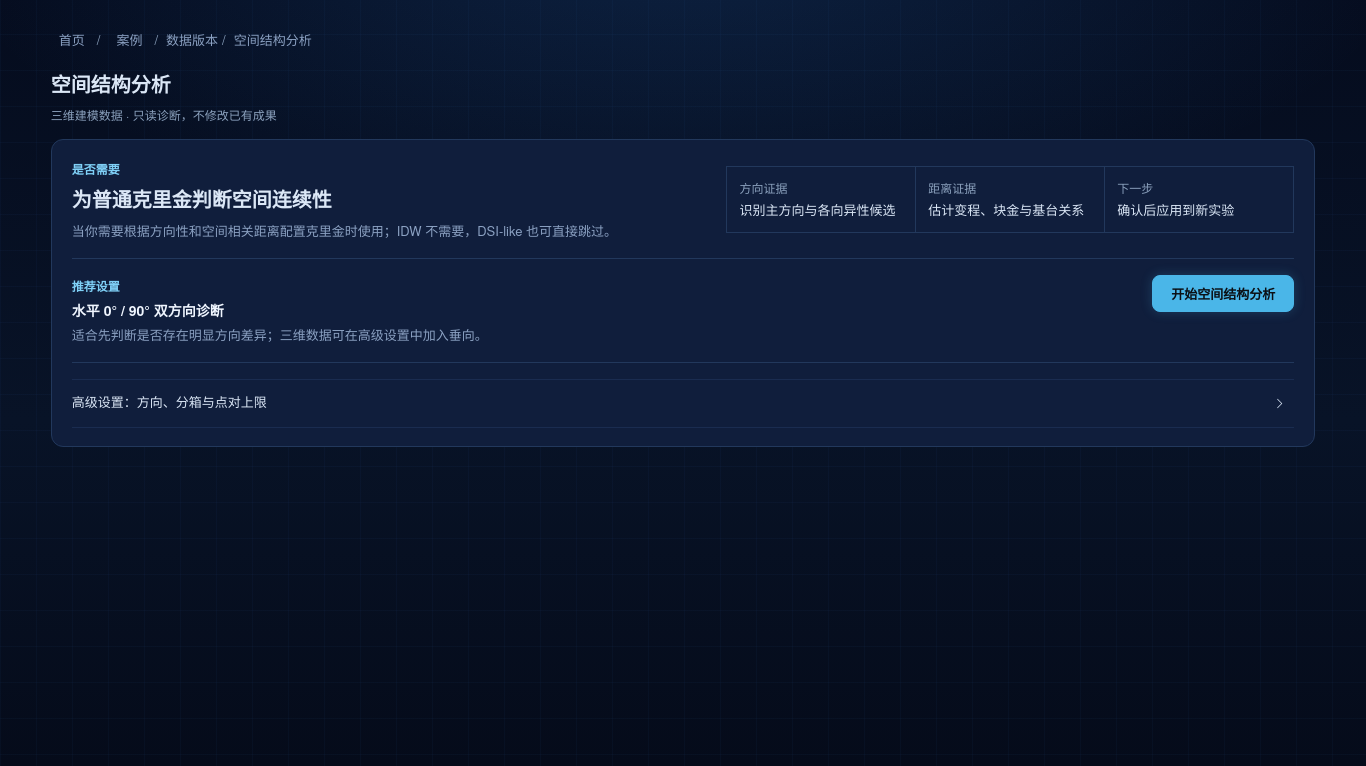
Test: 模型选择语义 › 变异函数模型无默认选中：占位提示选中且禁用，显式选择后才可确认
Click the button with test id "start-diagnosis": (1223, 293) [1152,275,1294,312]
Wait 2000 ms
(page scrolled)
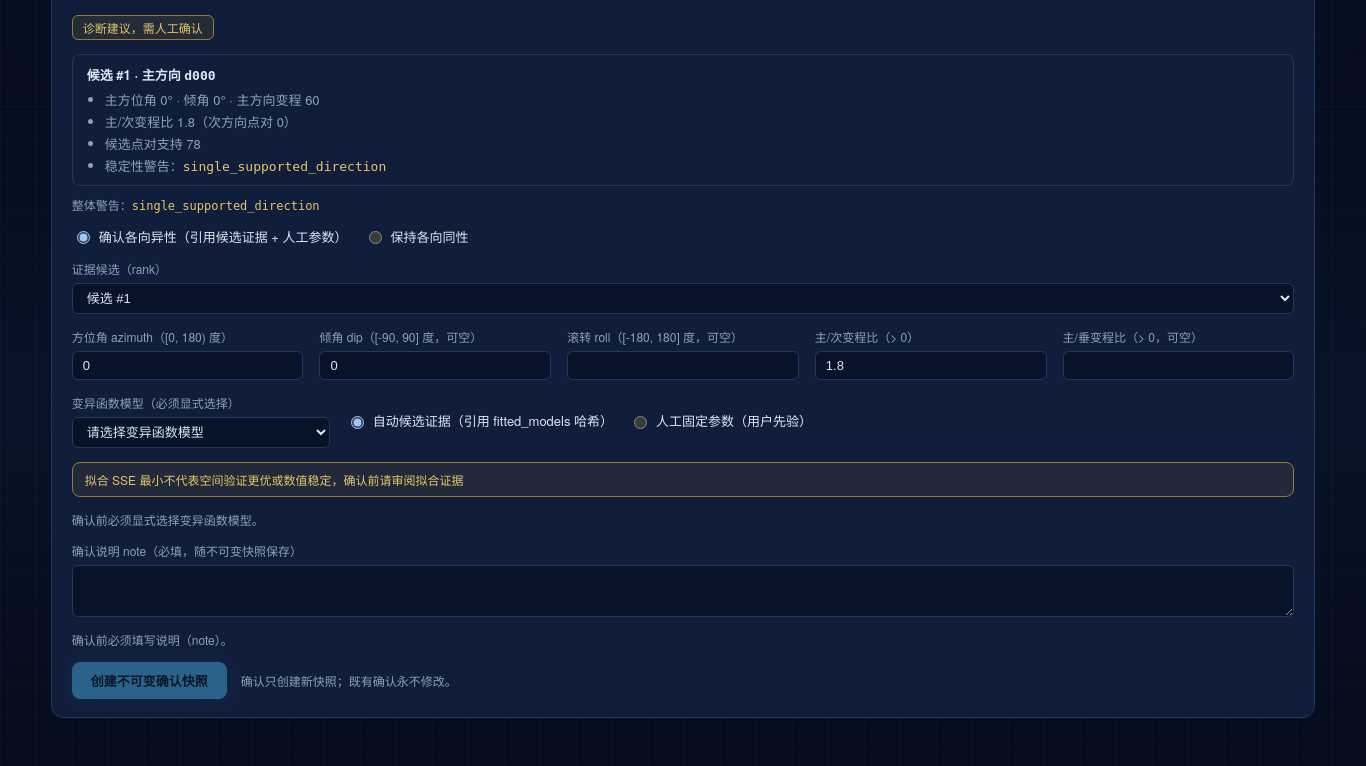
expect the dropdown with test id "confirm-model" is shown: met, box [72,417,330,448]
In the text box with test id "confirm-note": (683, 591) [72,565,1294,617], type "审阅拟合证据后确认"
(page scrolled)
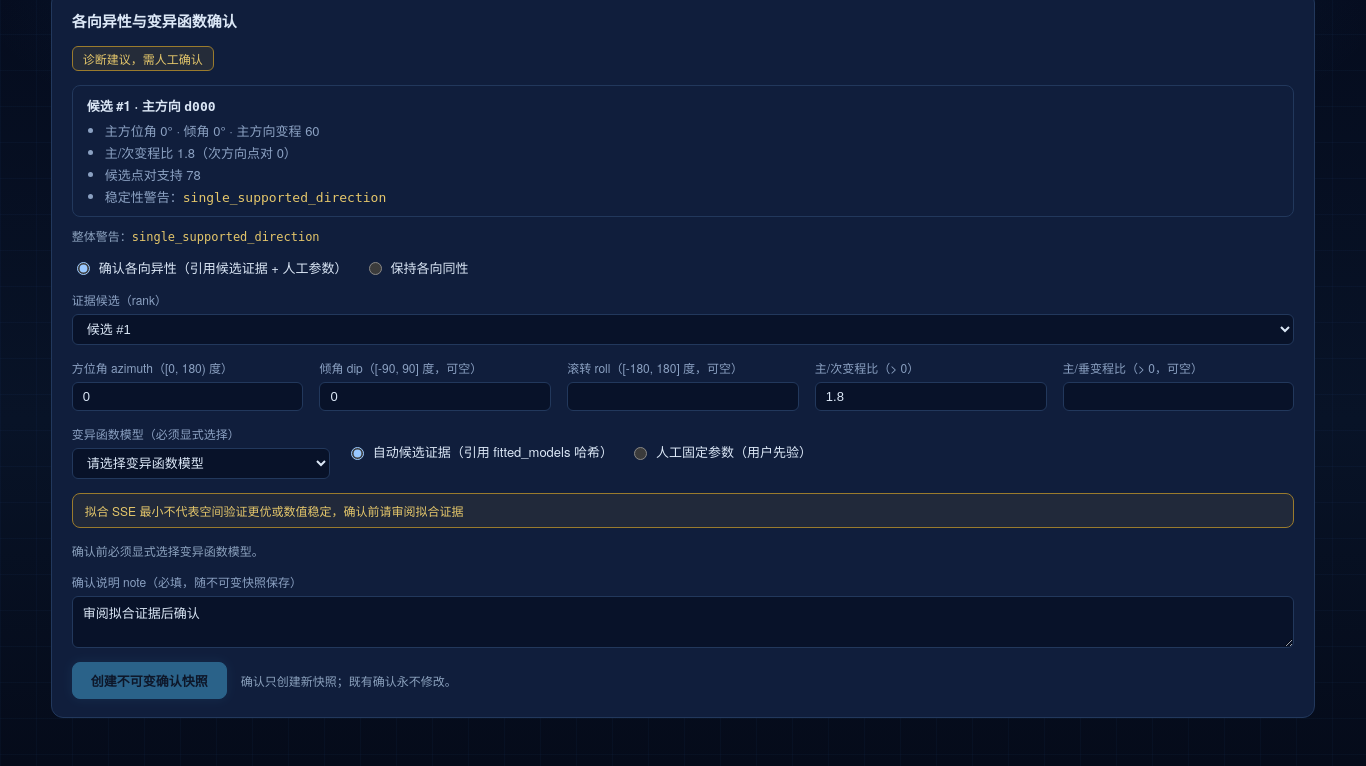
expect the button with test id "confirm-submit" is disabled: met, box [72,662,227,699]
Select "exponential" in the dropdown with test id "confirm-model": (201, 463) [72,448,330,479]
(page scrolled)
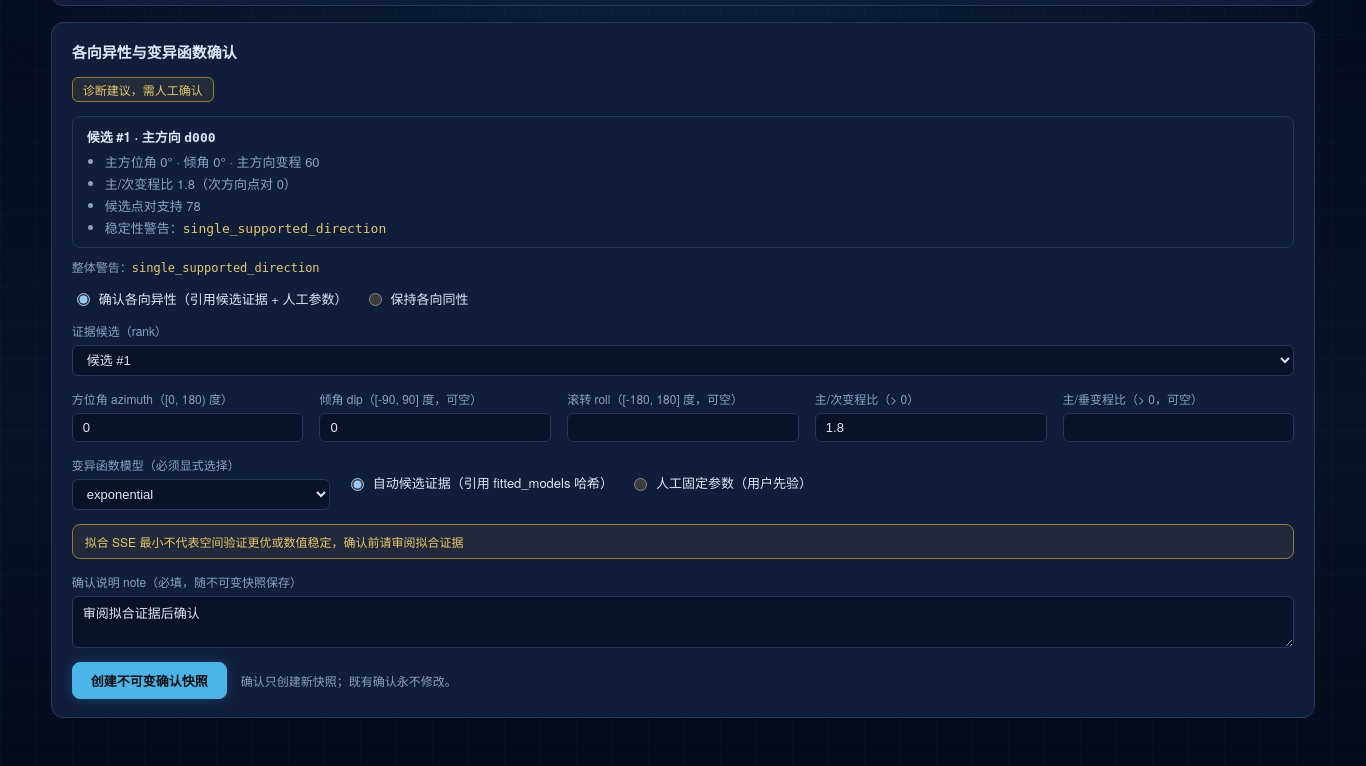
expect the button with test id "confirm-submit" is enabled: met, box [72,662,227,699]
